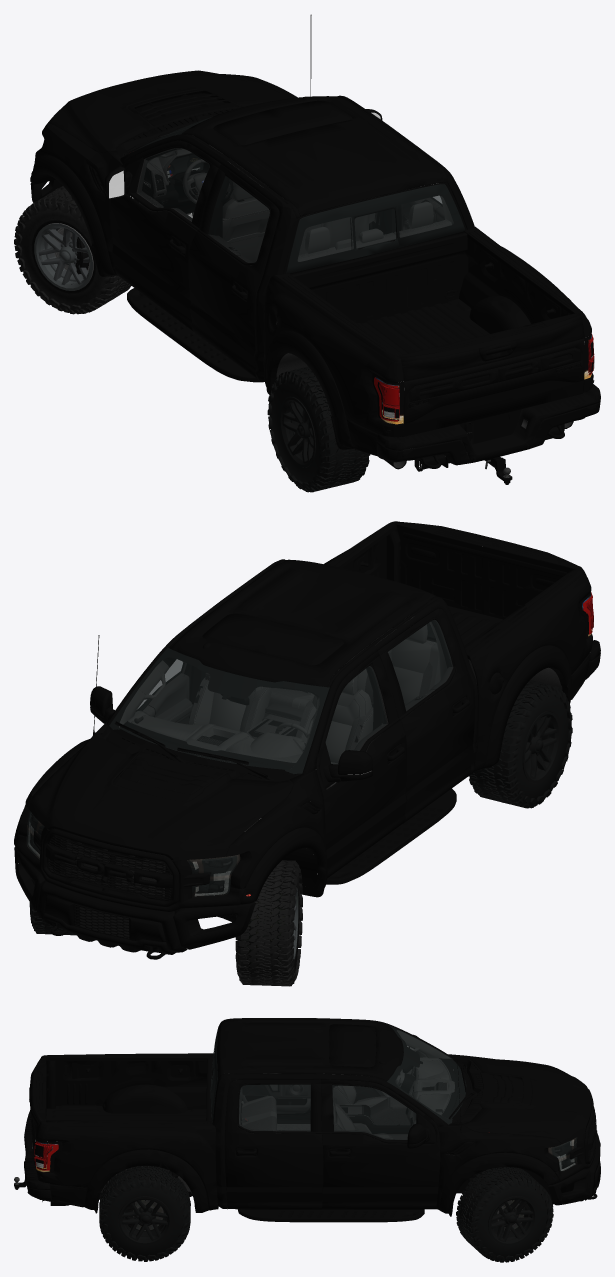
Rendered from ford-f150-raptor.glb.
3 views of the same model, one above another, from view 1: azimuth 30°, elevation 25°; view 2: azimuth 150°, elevation 25°; view 3: azimuth 270°, elevation 25° (orthographic). The views are drawn at different scales.
Visible parts, largest first — view 1: bodyshell1_1_17_64, Object_56, Object_61, chassis_2_46_112, door_dside_r_31_60_137, windscreen_r_55_216_379, Object_42, door_pside_f_23_74_165, Object_39, Object_12, window_lr_32_205_361, misc_skirt_18_137_256 (+4 smaller); view 2: bodyshell1_1_17_64, Object_61, windscreen_56_213_374, chassis_2_46_112, door_pside_f_23_74_165, Object_54, door_dside_r_31_60_137, bumper_f_20_28_78, Object_39, Object_42, window_lr_32_205_361, Object_12 (+4 smaller); view 3: bodyshell1_1_17_64, door_pside_f_23_74_165, door_pside_r_26_84_184, Object_61, chassis_2_46_112, [wheel_59_2_37, Object_47, windscreen_56_213_374, window_rf_25_207_364, window_rr_27_209_367, misc_skirt_18_137_256, door_dside_r_31_60_137 (+7 smaller).
Boxes of the visible parts, box(x1,y1,x2,y2) form: bodyshell1_1_17_64: box(30, 14, 600, 471); Object_56: box(401, 319, 584, 436); Object_61: box(46, 70, 291, 152); chassis_2_46_112: box(71, 130, 573, 469); door_dside_r_31_60_137: box(188, 164, 279, 378); windscreen_r_55_216_379: box(286, 184, 465, 273); Object_42: box(14, 186, 131, 314); door_pside_f_23_74_165: box(104, 104, 382, 330); Object_39: box(267, 366, 370, 492); Object_12: box(138, 148, 209, 220); window_lr_32_205_361: box(208, 176, 269, 262); misc_skirt_18_137_256: box(127, 288, 263, 382); bodyshell1_1_17_64: box(14, 521, 600, 913); Object_61: box(28, 733, 293, 860); windscreen_56_213_374: box(109, 648, 329, 774); chassis_2_46_112: box(109, 617, 447, 846); door_pside_f_23_74_165: box(90, 627, 406, 877); Object_54: box(394, 521, 579, 619); door_dside_r_31_60_137: box(378, 608, 475, 823); bumper_f_20_28_78: box(14, 846, 255, 959); Object_39: box(469, 680, 572, 808); Object_42: box(235, 860, 302, 986); window_lr_32_205_361: box(388, 620, 452, 710); Object_12: box(325, 666, 386, 764); bodyshell1_1_17_64: box(24, 1018, 597, 1216); door_pside_f_23_74_165: box(321, 1034, 440, 1209); door_pside_r_26_84_184: box(225, 1079, 323, 1209); Object_61: box(462, 1055, 591, 1144); chassis_2_46_112: box(50, 1030, 545, 1205); [wheel_59_2_37: box(99, 1166, 190, 1261); Object_47: box(456, 1167, 553, 1262); windscreen_56_213_374: box(387, 1025, 470, 1124); window_rf_25_207_364: box(332, 1085, 416, 1139); window_rr_27_209_367: box(239, 1084, 310, 1131); misc_skirt_18_137_256: box(238, 1209, 424, 1222); door_dside_r_31_60_137: box(241, 1073, 310, 1119).
Size of what is drawn, in the model's own units: 2.55 by 2.26 by 6.11.
Materials: 40 (23 with a texture image).
